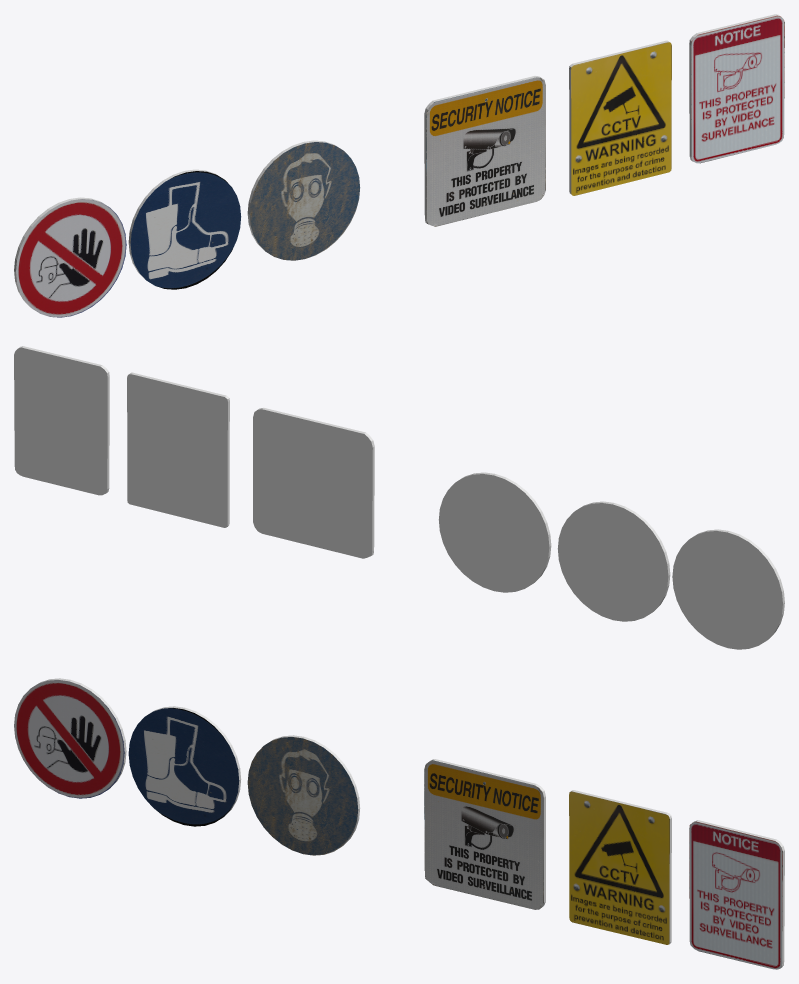
The model's file is Workplace Safety Signs Vol 1.glb.
3 views of the same model, one above another, from view 1: azimuth 30°, elevation 25°; view 2: azimuth 150°, elevation 25°; view 3: azimuth 330°, elevation 25° (orthographic).
Visible parts, largest first — view 1: Object_3, Object_4, Object_2, Object_5, Object_6, Object_7, Object_8; view 2: Object_8; view 3: Object_3, Object_4, Object_2, Object_7, Object_5, Object_6, Object_8.
Part boxes in pixels (x1,y1,x2,y2): Object_3: (426,77,545,226); Object_4: (571,42,671,195); Object_2: (691,15,784,163); Object_5: (249,142,360,260); Object_6: (130,171,241,289); Object_7: (16,199,126,317); Object_8: (14,14,779,308); Object_8: (14,346,784,649); Object_3: (424,760,543,909); Object_4: (569,791,669,944); Object_2: (689,821,782,969); Object_7: (14,680,124,798); Object_5: (247,737,358,855); Object_6: (128,708,239,826); Object_8: (32,678,784,968).
Size of the model in its own units: 2.92 by 0.4759 by 0.013.
7 materials, 6 textured.
